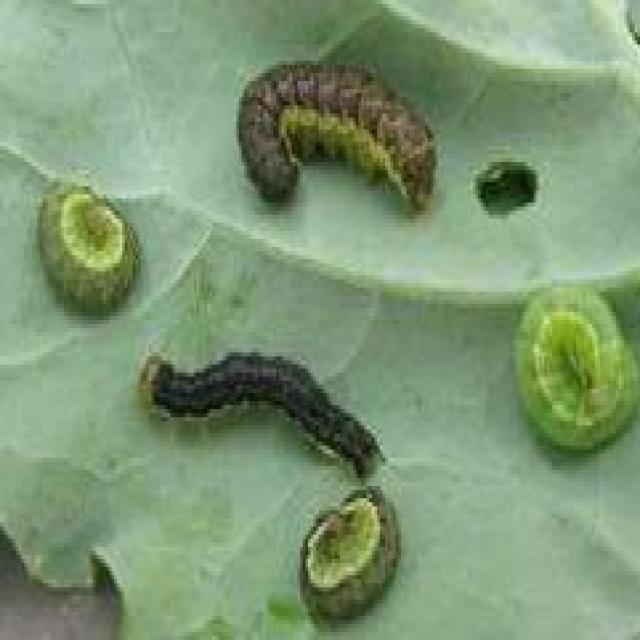armyworm: (141, 343, 390, 482), (233, 63, 443, 221), (517, 294, 640, 456), (45, 184, 146, 304), (312, 489, 398, 619)
